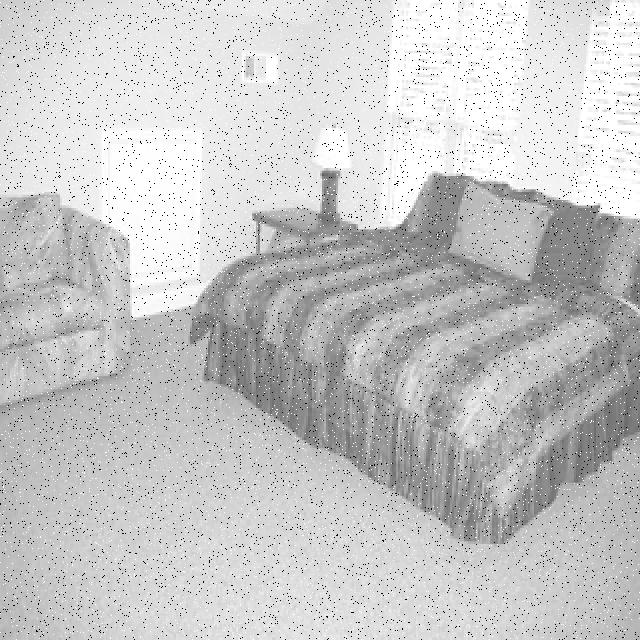bed: (206, 162, 640, 522)
